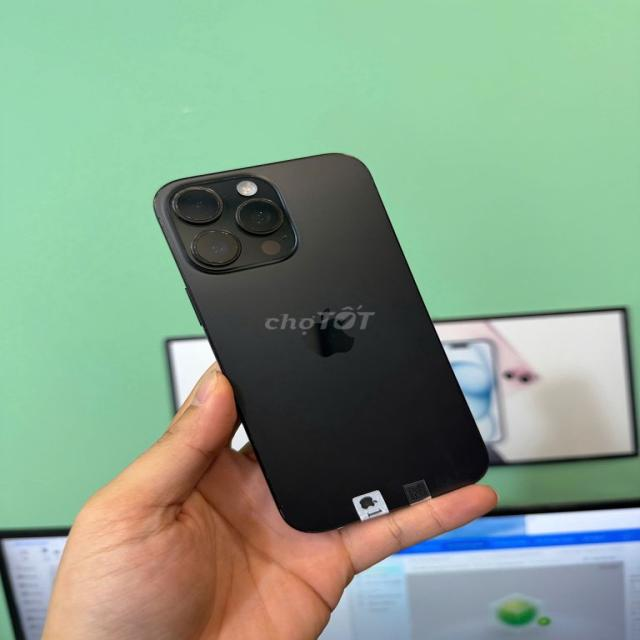gen_16: (154, 154, 488, 531)
